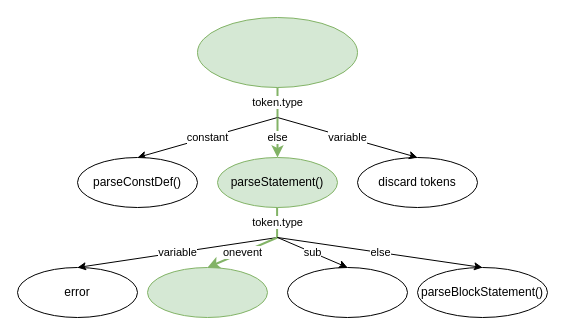
This 565x335 diagram has some shape labels left out. The shapes that lost their labels are listed below. From the top down, each one's box as (x1, y1, x2, y2) in pixels, then its label:
(196, 16, 358, 88): p arseProgram(tokens)
(146, 266, 268, 318): parseOnEvent()
(286, 266, 408, 318): parseSubDecl()
